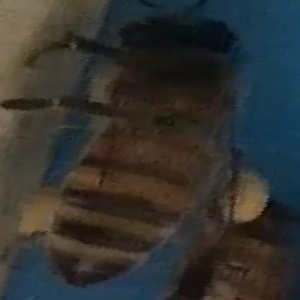bee: (15, 8, 233, 281)
